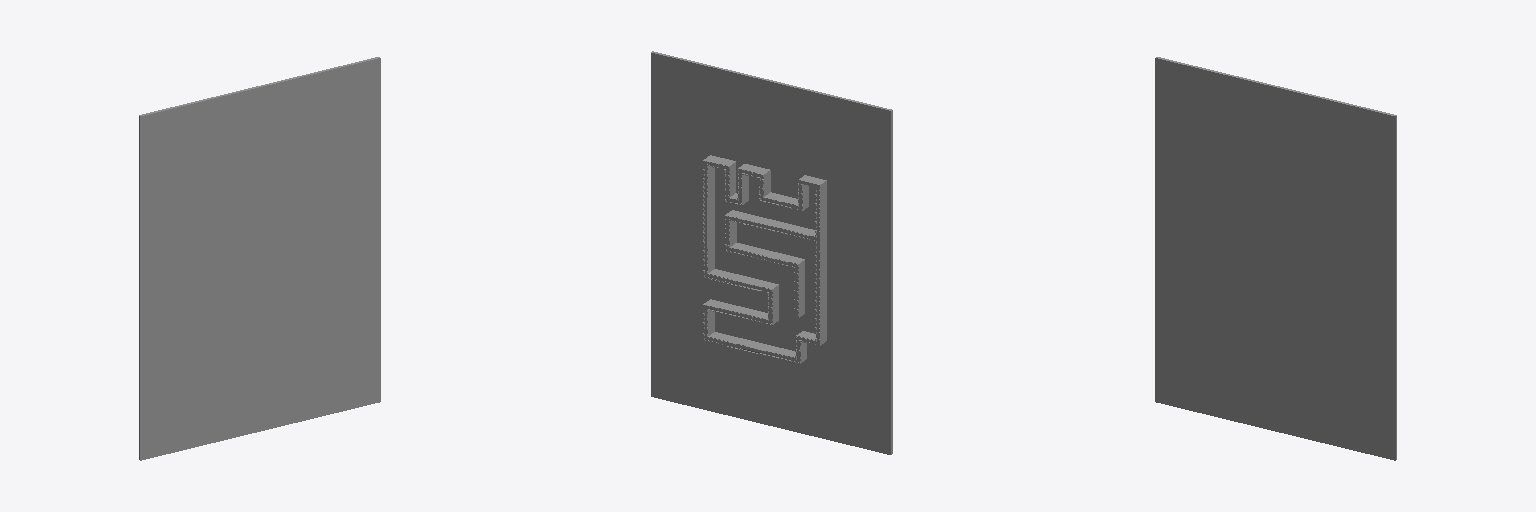
The model's file is Mapa1.obj.
3 renders of one model, left to right at view 1: azimuth 30°, elevation 25°; view 2: azimuth 150°, elevation 25°; view 3: azimuth 330°, elevation 25°, orthographic.
Visible parts, largest first — view 1: Recto113; view 2: Recto113; view 3: Recto113.
Boxes of the visible parts, x1,y1,x2,y2 form: Recto113: [139, 57, 380, 460]; Recto113: [651, 51, 892, 454]; Recto113: [1155, 57, 1396, 460].
Size of the model in its own units: 55.92 by 76.48 by 3.69.